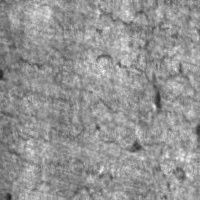crazing: (7, 52, 90, 168), (94, 9, 188, 84), (91, 91, 198, 152)
